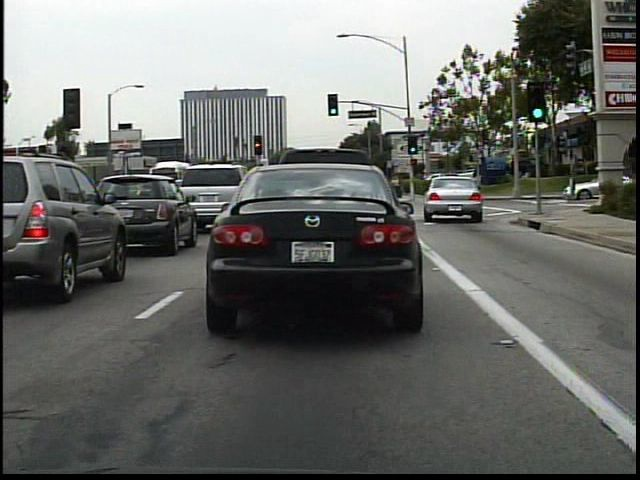person: (389, 173, 408, 202)
